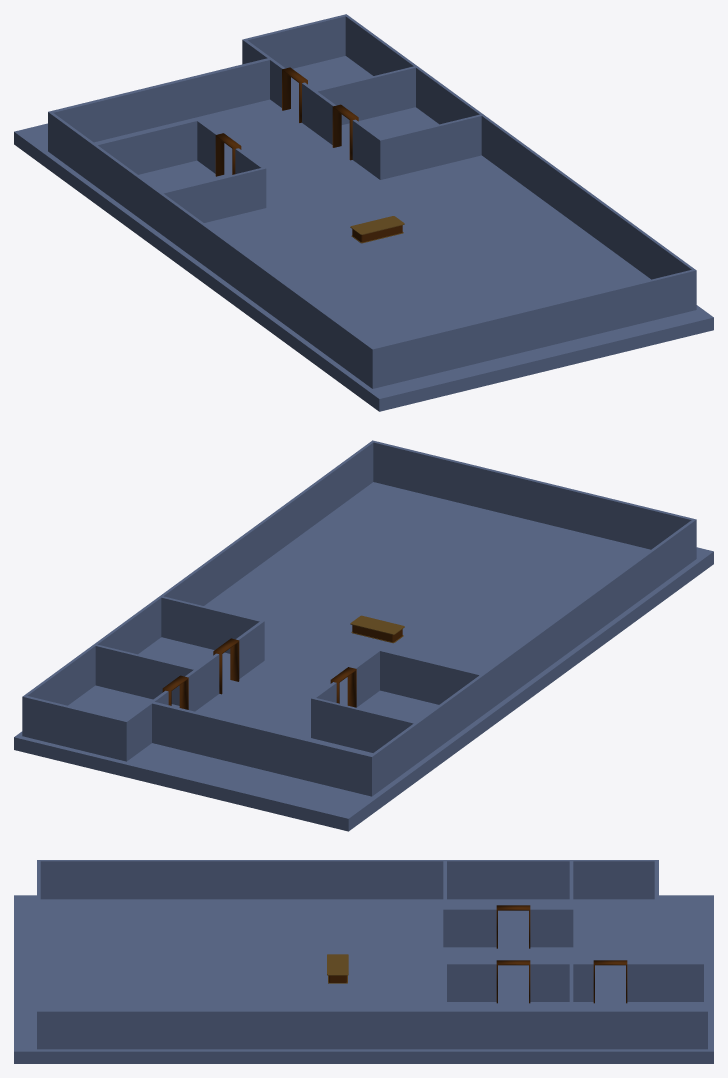
The model's file is House.fbx.
The picture shows the model from 3 angles, top to bottom: view 1: azimuth 30°, elevation 25°; view 2: azimuth 150°, elevation 25°; view 3: azimuth 270°, elevation 25°; orthographic projection. The views are drawn at different scales.
Parts seen in each view (by area): view 1: Cube.001, Cube.002, Cube, Cube.003, Cube.004, Cube.005; view 2: Cube.001, Cube.002, Cube, Cube.003, Cube.004; view 3: Cube.001, Cube.002, Cube, Cube.004, Cube.003, Cube.005.
Boxes of the visible parts, bbox=[...] form: Cube.001: bbox=[14, 56, 713, 411]; Cube.002: bbox=[48, 14, 696, 388]; Cube: bbox=[350, 216, 404, 243]; Cube.003: bbox=[332, 104, 358, 160]; Cube.004: bbox=[215, 133, 241, 176]; Cube.005: bbox=[282, 67, 307, 122]; Cube.001: bbox=[14, 482, 713, 831]; Cube.002: bbox=[22, 440, 696, 796]; Cube: bbox=[350, 615, 404, 643]; Cube.003: bbox=[213, 638, 239, 694]; Cube.004: bbox=[330, 667, 356, 707]; Cube.001: bbox=[14, 895, 713, 1063]; Cube.002: bbox=[37, 860, 707, 1049]; Cube: bbox=[327, 954, 348, 983]; Cube.004: bbox=[496, 905, 530, 948]; Cube.003: bbox=[496, 960, 530, 1003]; Cube.005: bbox=[593, 960, 627, 1003].
Bounding box in the file's own units: 5507 × 845 × 10417.
